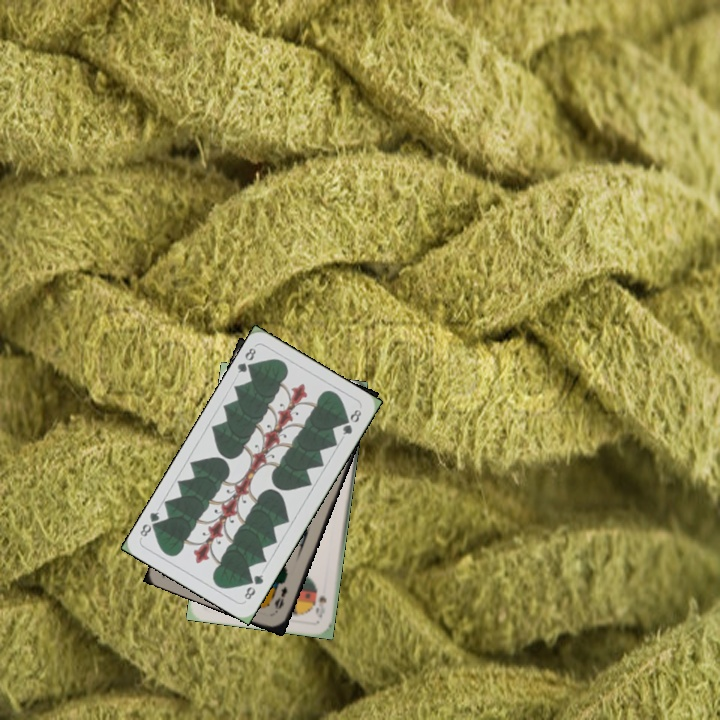EO: (270, 582, 290, 611)
G8: (233, 343, 259, 376), (240, 570, 266, 602)
SO: (312, 592, 329, 620)
